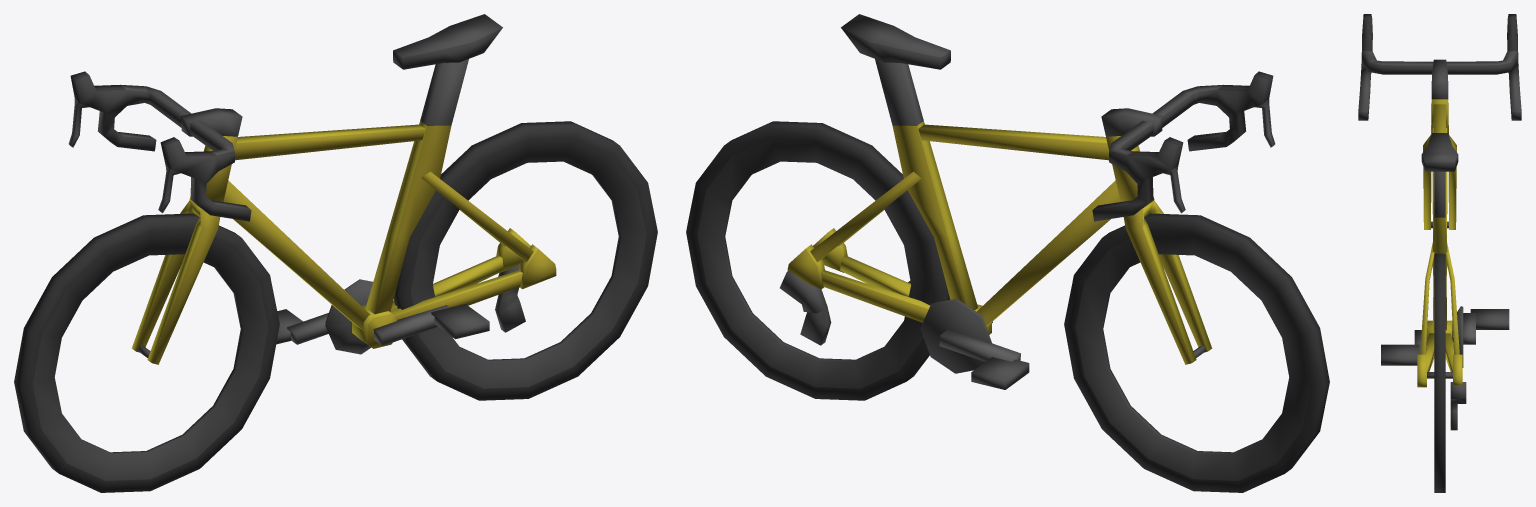
Rendered from BiciGialla.fbx.
3 views of the same model, side by side, from view 1: azimuth 30°, elevation 25°; view 2: azimuth 150°, elevation 25°; view 3: azimuth 270°, elevation 25° (orthographic). The views are drawn at different scales.
Visible parts, largest first — view 1: bici_corsa; view 2: bici_corsa; view 3: bici_corsa.
Boxes of the visible parts, bbox=[...] form: bici_corsa: bbox=[14, 14, 657, 492]; bici_corsa: bbox=[686, 14, 1329, 492]; bici_corsa: bbox=[1358, 14, 1521, 492].
Size of the model in its own units: 505 by 293 by 140.
